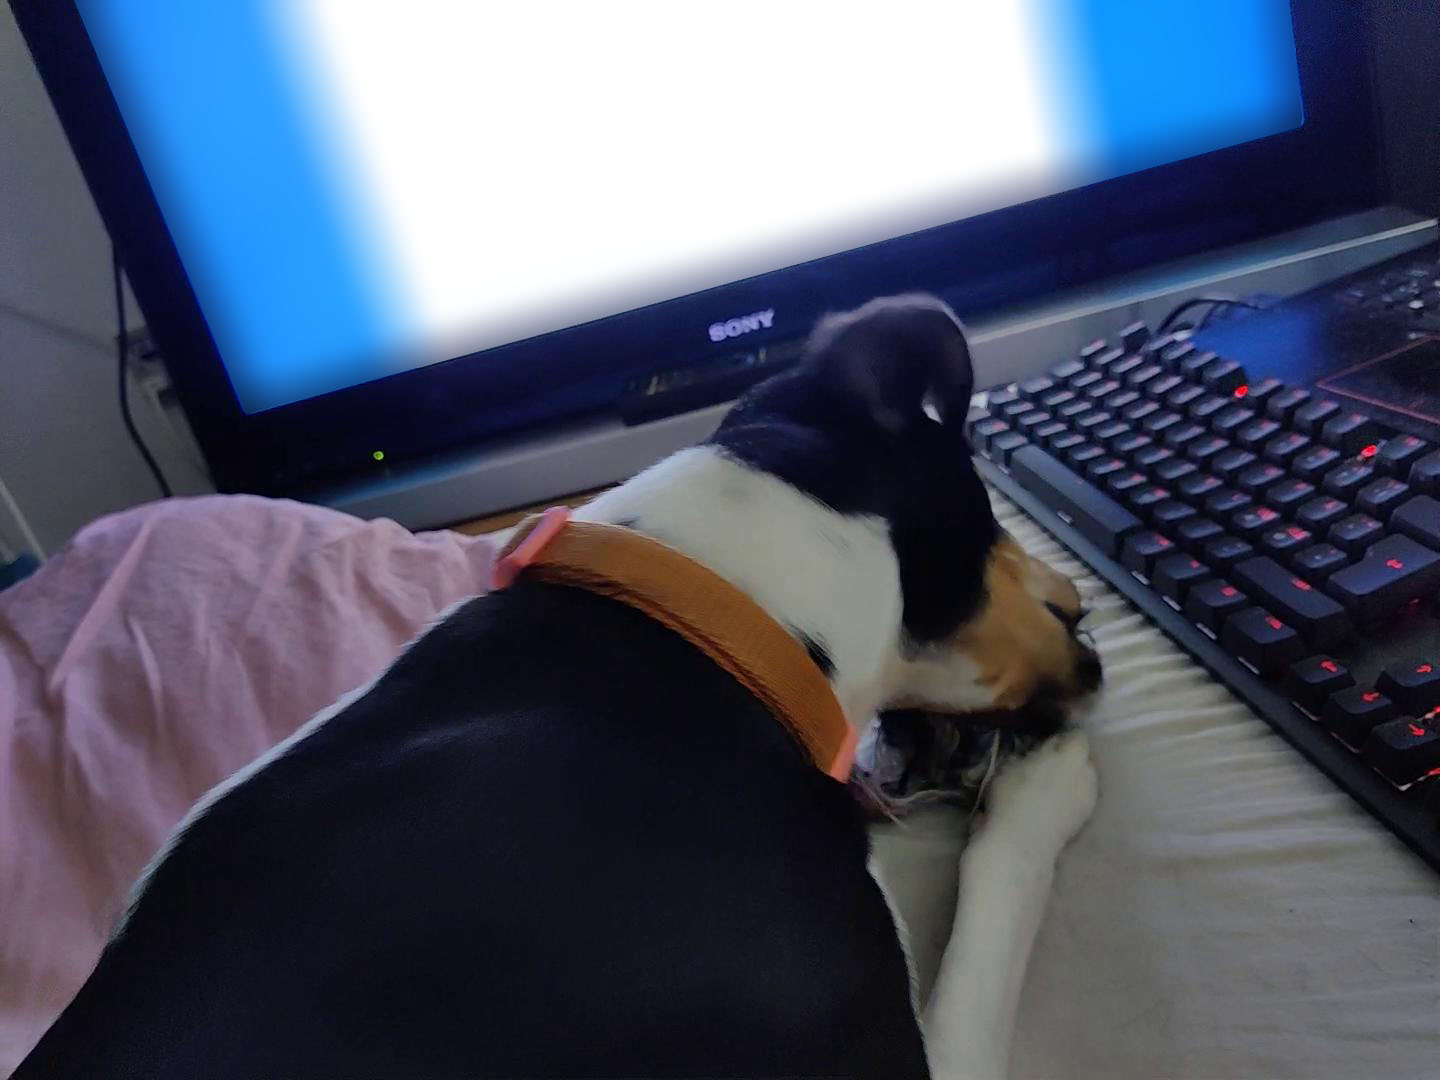Dog: (0, 286, 1112, 1079)
